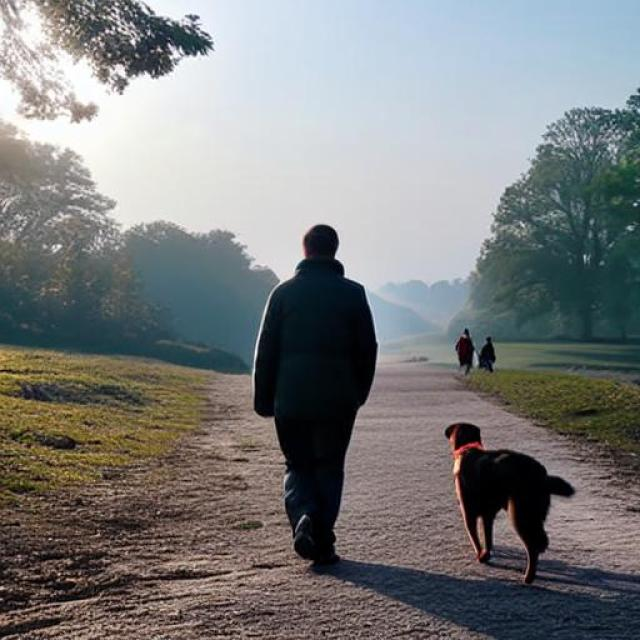Unleashed_Dog: (283, 378, 576, 588)
